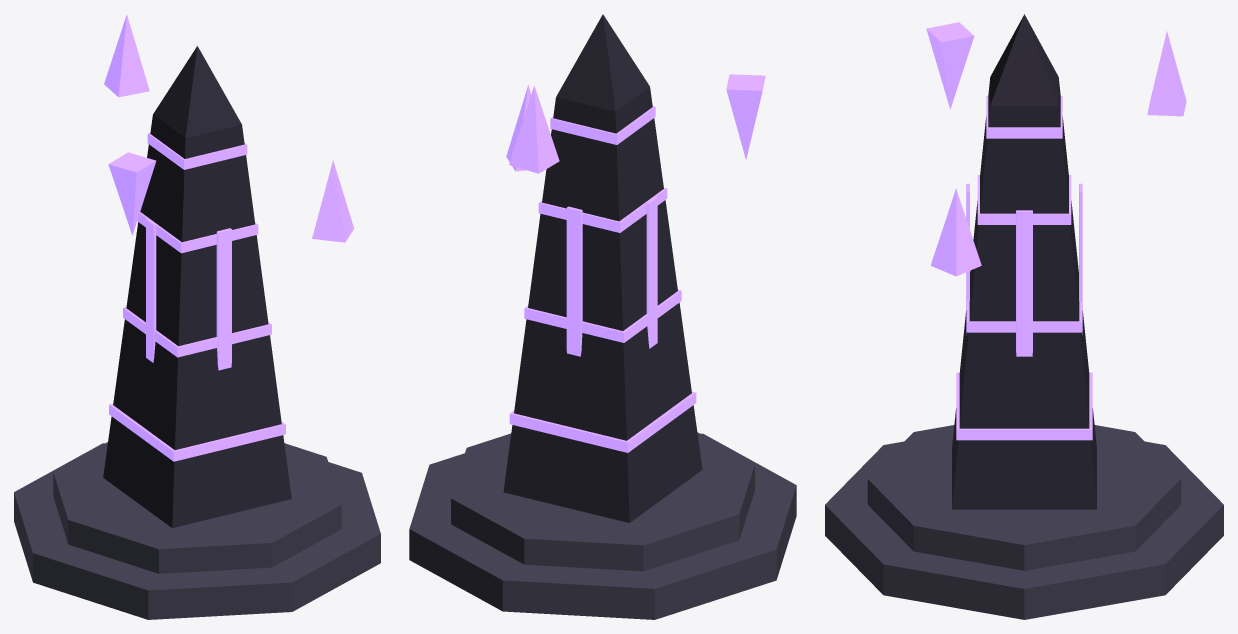
Rendered from rift_obelisk.glb.
The picture shows the model from 3 angles, left to right: view 1: azimuth 30°, elevation 25°; view 2: azimuth 150°, elevation 25°; view 3: azimuth 270°, elevation 25°; orthographic projection. The views are drawn at different scales.
Parts seen in each view (by area): view 1: prop.rift_obelisk; view 2: prop.rift_obelisk; view 3: prop.rift_obelisk.
Boxes of the visible parts, x1,y1,x2,y2 form: prop.rift_obelisk: (14, 14, 380, 619); prop.rift_obelisk: (409, 14, 796, 619); prop.rift_obelisk: (825, 14, 1223, 619).
Size of the model in its own units: 1.46 by 2.1 by 1.46.
